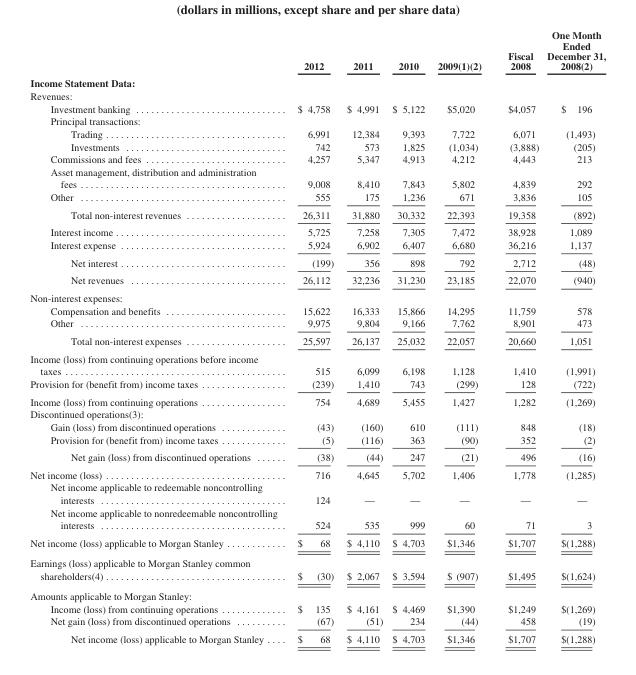table: (29, 29, 605, 644)
table column: (29, 29, 286, 644), (430, 29, 493, 644), (542, 29, 605, 644), (286, 29, 339, 644), (493, 29, 542, 644), (339, 29, 386, 644), (386, 29, 430, 644)
table column header: (29, 29, 605, 74)
table projected row header: (29, 585, 605, 601), (29, 74, 605, 89), (29, 288, 605, 303), (29, 114, 605, 127), (29, 407, 605, 420), (29, 89, 605, 101)
table row: (29, 29, 605, 74), (29, 552, 605, 585), (29, 349, 605, 377), (29, 505, 605, 533), (29, 165, 605, 190), (29, 480, 605, 505), (29, 533, 605, 552), (29, 205, 605, 223), (29, 253, 605, 271), (29, 331, 605, 349), (29, 447, 605, 465), (29, 271, 605, 288), (29, 585, 605, 601), (29, 74, 605, 89), (29, 190, 605, 205), (29, 223, 605, 238), (29, 238, 605, 253), (29, 288, 605, 303), (29, 316, 605, 331), (29, 377, 605, 392), (29, 392, 605, 407), (29, 432, 605, 447), (29, 465, 605, 480), (29, 614, 605, 629), (29, 629, 605, 644), (29, 101, 605, 114), (29, 114, 605, 127), (29, 139, 605, 152), (29, 152, 605, 165), (29, 303, 605, 316), (29, 407, 605, 420), (29, 601, 605, 614), (29, 89, 605, 101), (29, 127, 605, 139), (29, 420, 605, 432)
